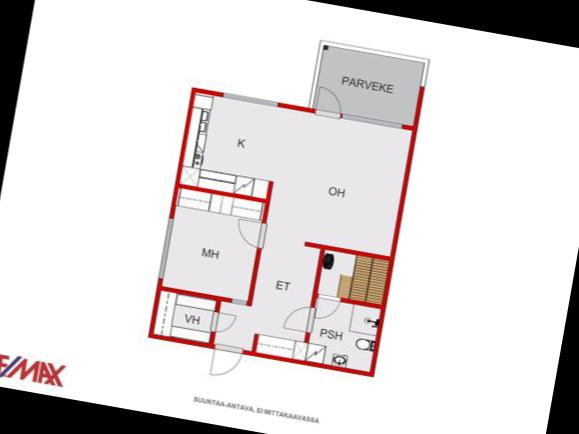door: (309, 83, 347, 122), (206, 342, 244, 380), (232, 214, 270, 250), (280, 301, 318, 335), (310, 292, 345, 323), (206, 308, 237, 336)
window: (215, 88, 285, 112), (154, 212, 175, 285), (338, 110, 405, 132)
